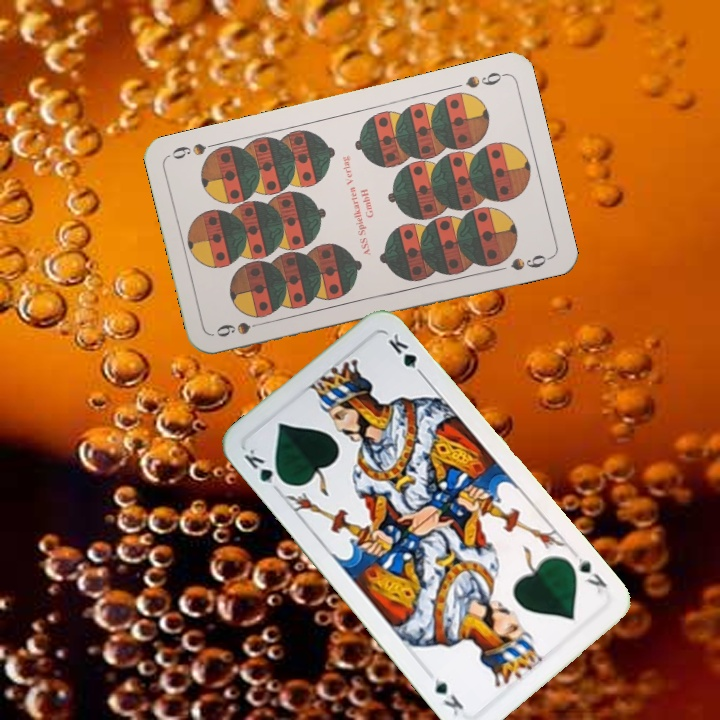GK: (239, 444, 289, 495), (574, 553, 610, 596)
S9: (212, 317, 270, 340), (461, 68, 508, 91)
